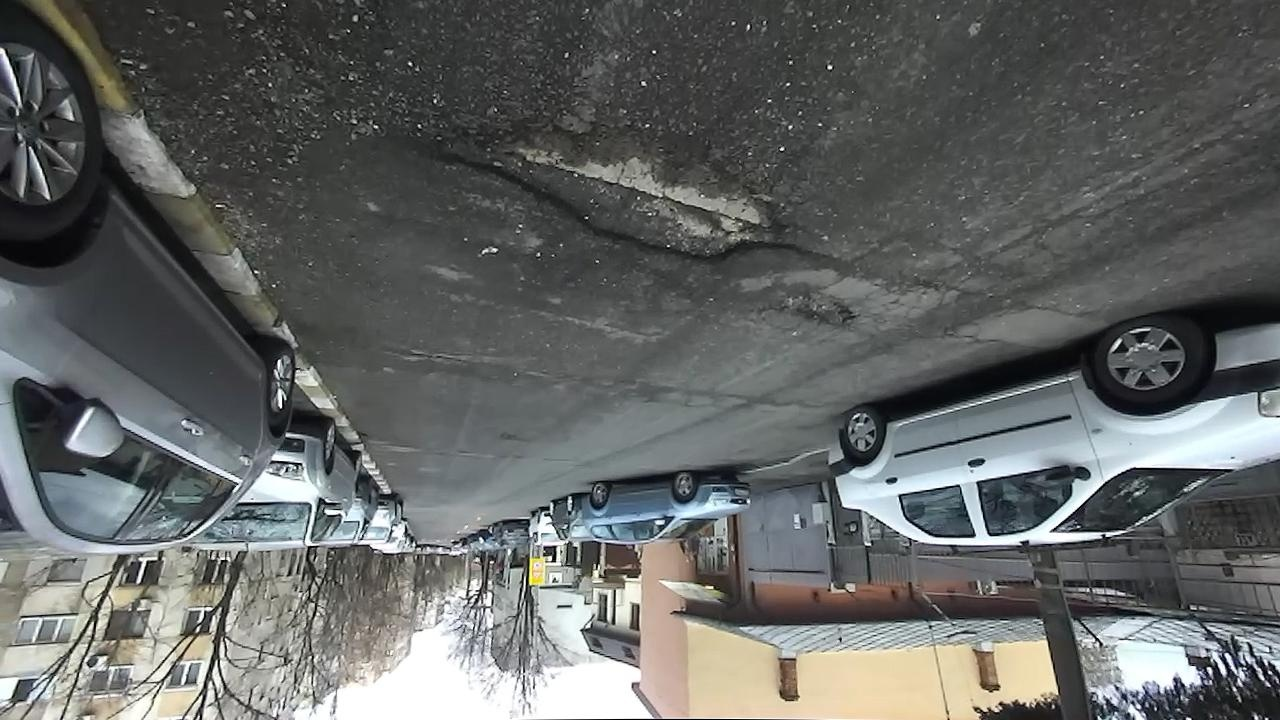pothole: (402, 110, 839, 271), (763, 291, 864, 339), (388, 340, 474, 370)
